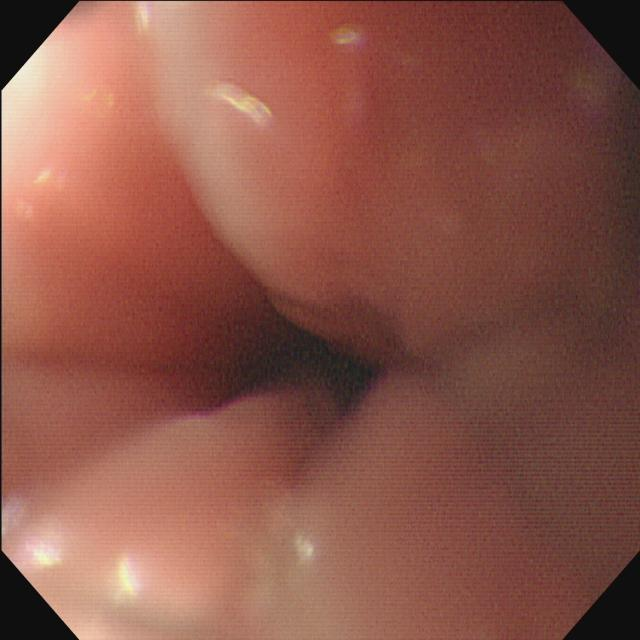E: (242, 309, 385, 419)
U: (218, 83, 273, 127), (24, 527, 68, 569), (113, 560, 145, 603)
